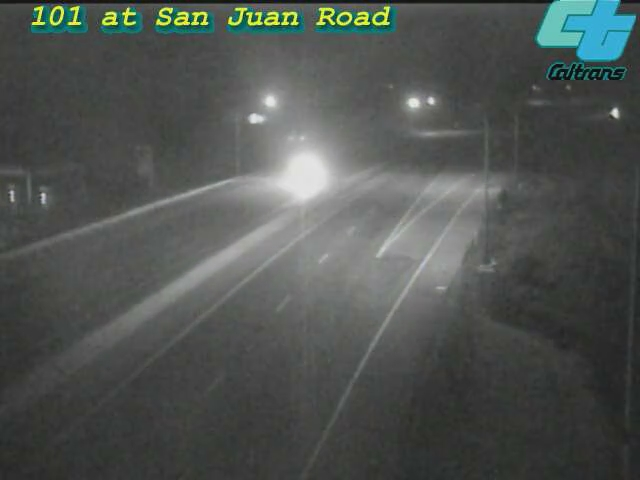vehicle: (264, 135, 344, 215), (589, 87, 639, 137)
